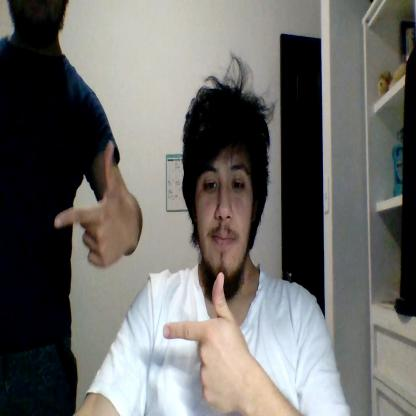G: (162, 273, 245, 410), (55, 140, 128, 268)
